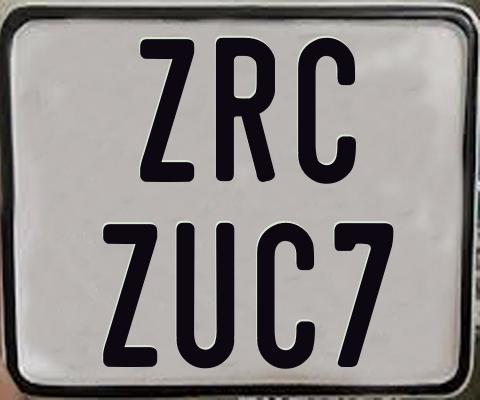7: (334, 222, 395, 371)
C: (255, 220, 315, 372), (298, 38, 357, 185)
R: (215, 38, 275, 185)
U: (175, 221, 237, 370)
Z: (139, 39, 198, 187), (103, 224, 158, 368)
